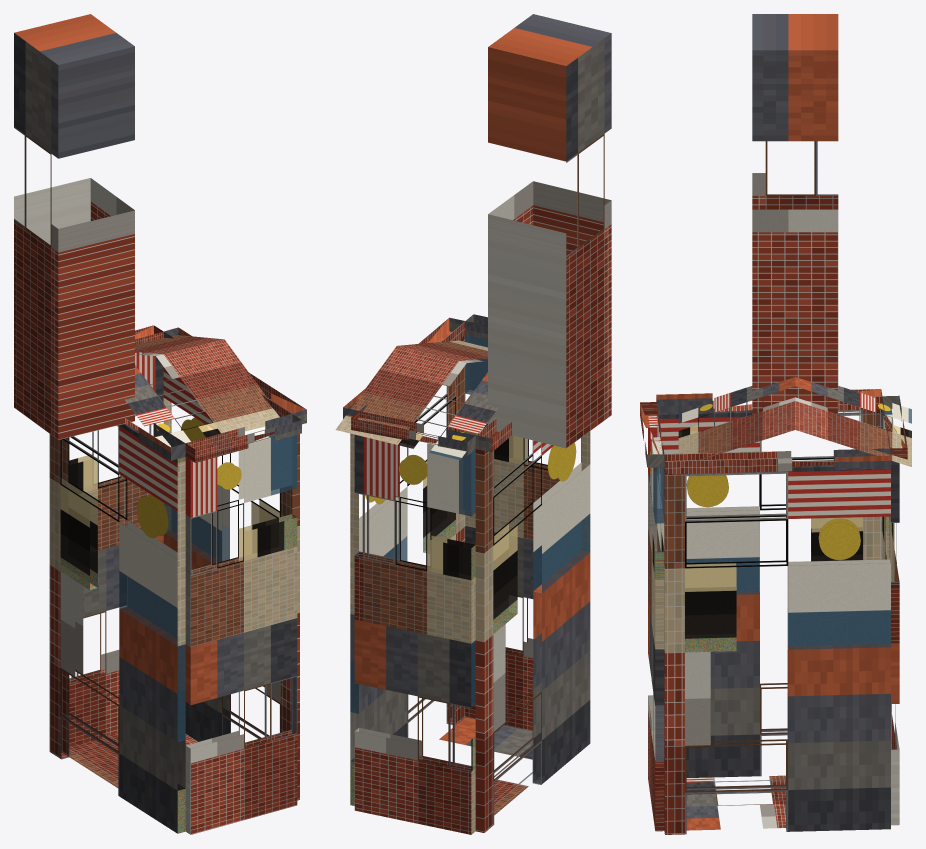
3 views of the same model, side by side, from view 1: azimuth 30°, elevation 25°; view 2: azimuth 150°, elevation 25°; view 3: azimuth 270°, elevation 25° (orthographic). The views are drawn at different scales.
Parts seen in each view (by area): view 1: 1106973753__chimney_0_xb, 1106973753__wall_3_xb, 1106973753__wall_2_xb, 1106973753__wall_0_xb, 1106973753__wall_1_xb, 1106973753_roof_-1_xb, 1106973753__wall_3_xf, 1106973753__wall_2_xf, 1106973753__cornice_2, 1106973753__wall_1_xf, 1106973753__base, 1106973753__cornice_1 (+3 smaller); view 2: 1106973753__chimney_0_xb, 1106973753__wall_0_xb, 1106973753__wall_3_xb, 1106973753__wall_1_xb, 1106973753__wall_2_xb, 1106973753_roof_1_xb, 1106973753__wall_3_xf, 1106973753__wall_0_xf, 1106973753__base, 1106973753__cornice_0, 1106973753__wall_1_xf, 1106973753__wall_2_xf (+3 smaller); view 3: 1106973753__wall_1_xb, 1106973753__chimney_0_xb, 1106973753__wall_3_xb, 1106973753__wall_1_xf, 1106973753__wall_2_xb, 1106973753_roof_1_xb, 1106973753_roof_-1_xb, 1106973753__cornice_1, 1106973753__wall_0_xb, 1106973753__base, 1106973753__wall_3_xf, 1106973753__cornice_3 (+3 smaller).
Part boxes in pixels (x1,y1,x2,y2): 1106973753__chimney_0_xb: (14,14,134,439); 1106973753__wall_3_xb: (49,424,185,833); 1106973753__wall_2_xb: (185,434,297,834); 1106973753__wall_0_xb: (69,352,163,746); 1106973753__wall_1_xb: (163,367,299,800); 1106973753_roof_-1_xb: (125,339,279,447); 1106973753__wall_3_xf: (61,457,185,832); 1106973753__wall_2_xf: (239,434,296,560); 1106973753__cornice_2: (185,414,301,462); 1106973753__wall_1_xf: (164,500,279,563); 1106973753__base: (69,732,197,787); 1106973753__cornice_1: (163,327,306,424); 1106973753__chimney_0_xb: (488,14,611,448); 1106973753__wall_0_xb: (354,434,475,834); 1106973753__wall_3_xb: (475,431,590,832); 1106973753__wall_1_xb: (350,335,465,805); 1106973753__wall_2_xb: (465,335,581,731); 1106973753_roof_1_xb: (335,346,498,459); 1106973753__wall_3_xf: (493,514,589,632); 1106973753__wall_0_xf: (427,450,475,770); 1106973753__base: (439,717,532,815); 1106973753__cornice_0: (351,411,475,455); 1106973753__wall_1_xf: (350,462,455,805); 1106973753__wall_2_xf: (465,335,527,463); 1106973753__wall_1_xb: (664,464,890,834); 1106973753__chimney_0_xb: (752,14,838,414); 1106973753__wall_3_xb: (657,409,882,777); 1106973753__wall_1_xf: (685,534,890,651); 1106973753__wall_2_xb: (648,415,664,831); 1106973753_roof_1_xb: (795,377,911,466); 1106973753_roof_-1_xb: (678,377,795,460); 1106973753__cornice_1: (664,448,891,474); 1106973753__wall_0_xb: (882,409,899,825); 1106973753__base: (686,775,785,830); 1106973753__wall_3_xf: (687,506,862,594); 1106973753__cornice_3: (656,389,882,414).
Size of the model in its own units: 0.3984 by 1.4 by 0.4741.
1 material, 1 textured.
